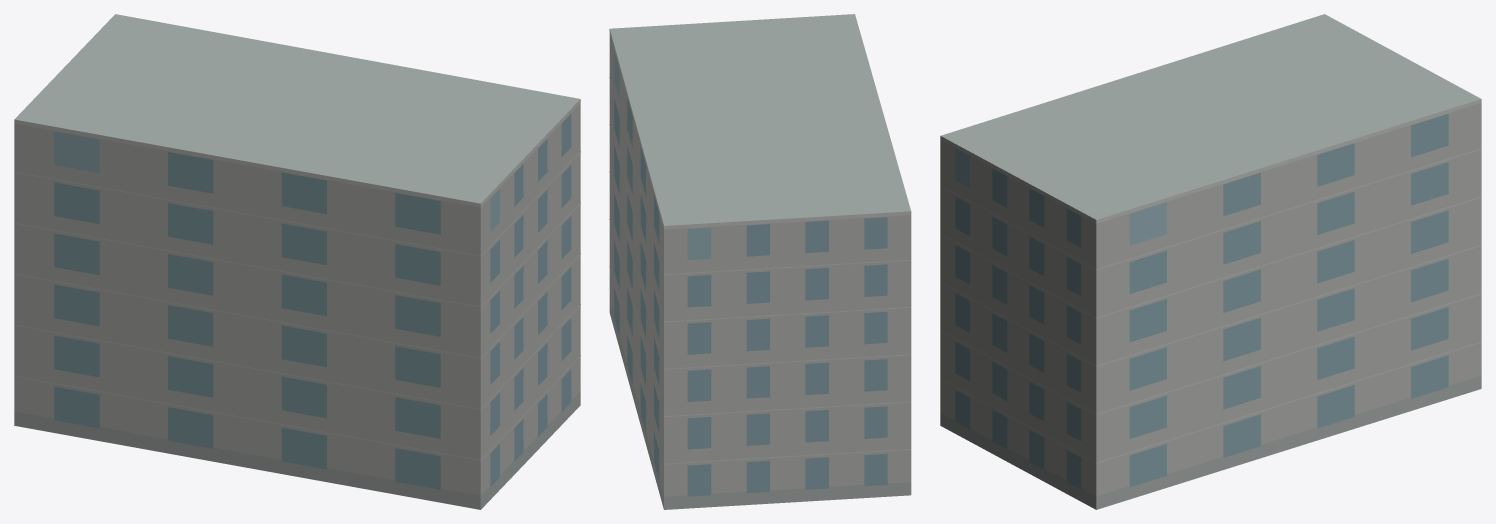
File: survey-upis-32908842.glb
3 renders of one model, left to right at view 1: azimuth 30°, elevation 25°; view 2: azimuth 150°, elevation 25°; view 3: azimuth 270°, elevation 25°, orthographic. The views are drawn at different scales.
Parts seen in each view (by area): view 1: survey-upis-32908842.tmp; view 2: survey-upis-32908842.tmp; view 3: survey-upis-32908842.tmp.
Boxes of the visible parts, x1=… form: survey-upis-32908842.tmp: x1=14, y1=14, x2=580, y2=509; survey-upis-32908842.tmp: x1=609, y1=14, x2=911, y2=509; survey-upis-32908842.tmp: x1=940, y1=14, x2=1481, y2=509.
Size of the model in its own units: 27.9 by 18.3 by 30.97.
